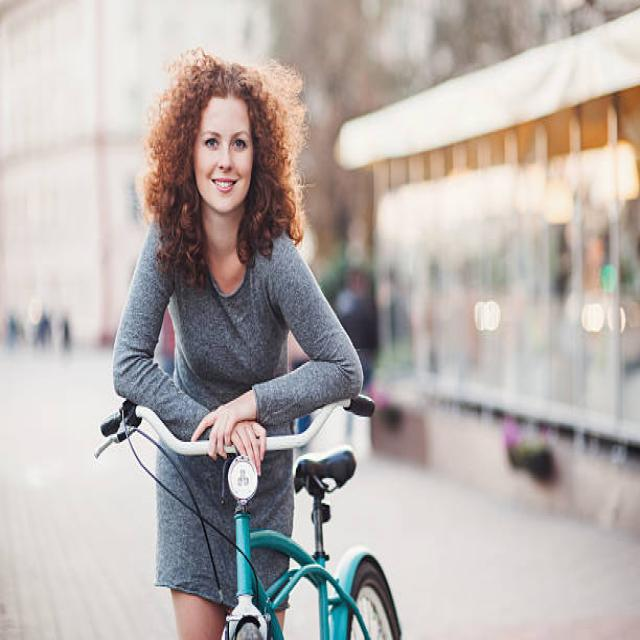bicycle: (96, 49, 400, 639)
